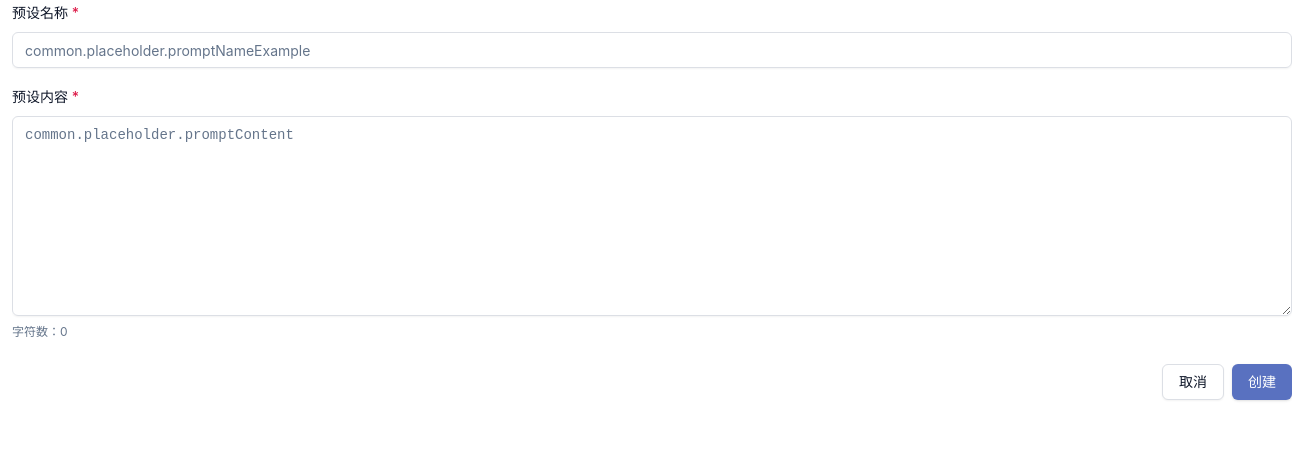
Test: PromptForm › 名称为空应该显示错误
Click the button "创建".
click(1262, 382)  # box [1232,364,1292,400]
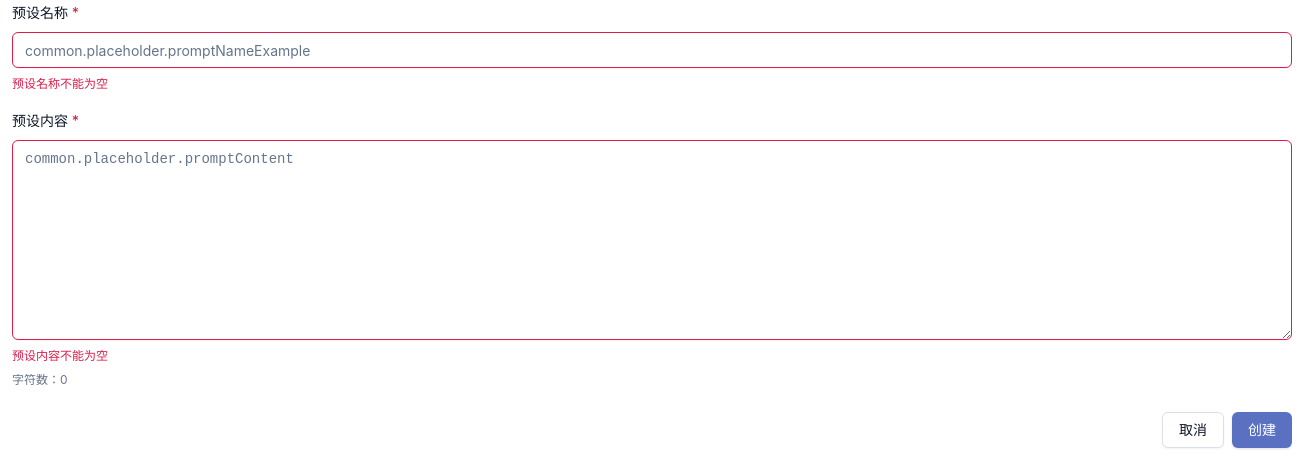
Expected: the text "预设名称不能为空" is shown, [12,76,108,91]
